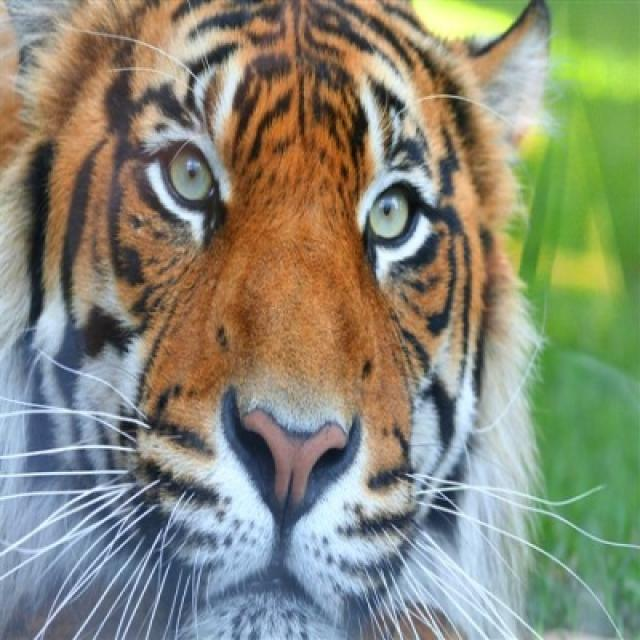Tiger: (0, 0, 556, 638)
